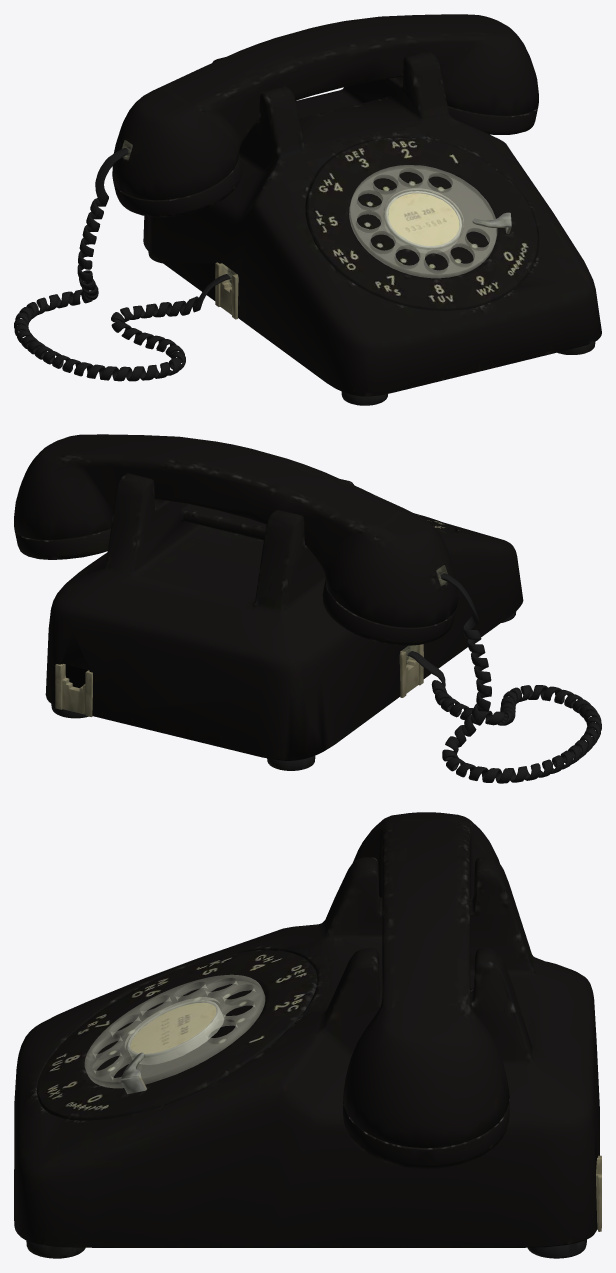
File: telefono.glb
The picture shows the model from 3 angles, top to bottom: view 1: azimuth 30°, elevation 25°; view 2: azimuth 150°, elevation 25°; view 3: azimuth 270°, elevation 25°; orthographic projection. The views are drawn at different scales.
Visible parts, largest first — view 1: Main_Body_Western_Electric_500_Material_0, Base_Feet_01_Western_Electric_500_Material_0, Plug_Base_Glass_0; view 2: Main_Body_Western_Electric_500_Material_0, Base_Feet_01_Western_Electric_500_Material_0; view 3: Main_Body_Western_Electric_500_Material_0, Plug_Base_Glass_0, Base_Feet_01_Western_Electric_500_Material_0.
Part boxes in pixels (left/top/right/bottom): Main_Body_Western_Electric_500_Material_0: left=112, top=14, right=601, bottom=396; Base_Feet_01_Western_Electric_500_Material_0: left=14, top=146, right=595, bottom=405; Plug_Base_Glass_0: left=122, top=140, right=496, bottom=285; Main_Body_Western_Electric_500_Material_0: left=14, top=434, right=523, bottom=760; Base_Feet_01_Western_Electric_500_Material_0: left=51, top=571, right=601, bottom=783; Main_Body_Western_Electric_500_Material_0: left=14, top=812, right=599, bottom=1247; Plug_Base_Glass_0: left=85, top=975, right=264, bottom=1087; Base_Feet_01_Western_Electric_500_Material_0: left=26, top=1000, right=601, bottom=1258.
Bounding box in the file's own units: 0.2797 × 0.1188 × 0.2125.
2 materials, 2 textured.
